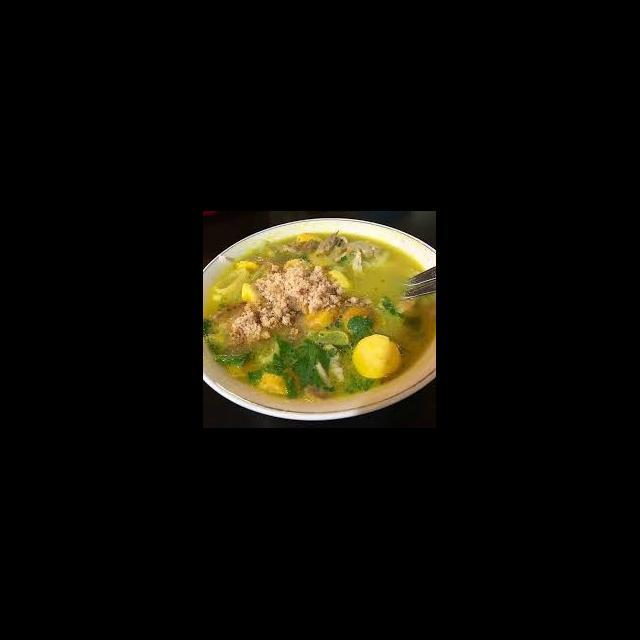Soto: (202, 218, 435, 418)
